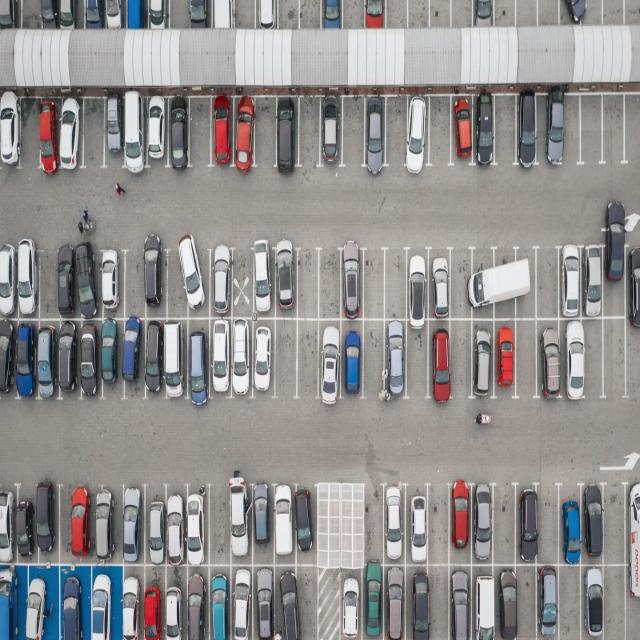space-empty: (447, 319, 473, 399), (294, 318, 320, 396), (272, 318, 298, 395), (603, 318, 629, 395), (207, 486, 232, 566), (405, 321, 431, 397), (557, 563, 583, 638), (425, 96, 452, 168), (513, 320, 538, 397), (492, 92, 518, 166), (254, 94, 280, 168), (423, 564, 449, 638), (292, 564, 318, 638), (492, 486, 516, 565), (341, 95, 367, 167), (534, 248, 560, 320), (361, 320, 385, 398), (426, 485, 449, 566), (228, 244, 253, 318), (297, 97, 323, 167), (188, 98, 214, 168), (448, 250, 474, 320), (603, 94, 628, 166), (604, 563, 628, 638), (293, 251, 319, 320), (82, 99, 108, 168), (579, 95, 604, 166), (583, 318, 605, 398), (382, 251, 407, 321), (603, 486, 625, 565), (362, 488, 384, 567), (384, 97, 408, 169), (316, 252, 341, 321), (538, 489, 560, 566), (20, 99, 43, 172), (360, 252, 385, 319), (124, 248, 148, 317), (166, 245, 188, 317), (516, 566, 538, 638), (561, 93, 582, 168), (38, 248, 58, 316), (318, 492, 336, 566), (57, 486, 74, 564), (625, 320, 640, 396), (624, 93, 640, 163), (298, 0, 322, 30), (384, 0, 408, 29), (407, 0, 431, 29), (277, 0, 300, 30), (450, 0, 474, 28), (342, 0, 365, 29), (21, 0, 43, 30), (169, 0, 191, 30), (430, 0, 453, 28), (234, 0, 256, 29), (514, 1, 538, 27), (535, 0, 559, 25), (600, 0, 625, 24), (493, 0, 515, 26), (623, 0, 640, 23)
space-occupied: (18, 564, 54, 640), (560, 318, 592, 398), (85, 566, 118, 640), (181, 242, 211, 319), (58, 567, 89, 640), (186, 318, 213, 399), (250, 319, 278, 395), (92, 486, 120, 562), (161, 318, 187, 398), (538, 320, 564, 399), (602, 240, 627, 322), (404, 97, 432, 170), (226, 319, 252, 397), (380, 483, 405, 564), (226, 563, 253, 638), (448, 95, 476, 167), (208, 318, 233, 398), (317, 316, 342, 396), (12, 319, 37, 399), (253, 243, 280, 317), (208, 245, 235, 319), (472, 564, 499, 638), (543, 92, 570, 166), (120, 563, 146, 639), (67, 485, 93, 561), (123, 318, 148, 397), (405, 484, 430, 563), (74, 247, 101, 320), (227, 482, 251, 564), (404, 250, 432, 320), (471, 319, 496, 397), (140, 564, 166, 639), (380, 319, 405, 397), (447, 482, 471, 563), (31, 482, 56, 559), (448, 564, 474, 638), (122, 96, 148, 170), (206, 564, 232, 638), (183, 563, 208, 639), (558, 245, 584, 318), (517, 94, 543, 167), (161, 567, 187, 640), (536, 563, 561, 638), (185, 489, 210, 564), (363, 97, 389, 169), (340, 318, 364, 396), (142, 96, 168, 168), (122, 486, 146, 564), (514, 485, 538, 563), (472, 246, 498, 318), (492, 246, 518, 318), (581, 243, 606, 317), (81, 320, 105, 397), (272, 246, 298, 317), (340, 569, 366, 640), (472, 482, 495, 562), (101, 316, 124, 396), (101, 250, 128, 318), (492, 318, 516, 394), (578, 562, 602, 638), (426, 249, 452, 319), (317, 97, 343, 167), (209, 97, 234, 169), (472, 97, 497, 169), (274, 563, 298, 638), (429, 321, 452, 399), (58, 319, 81, 397), (144, 319, 167, 397), (14, 244, 38, 318), (254, 564, 278, 638), (405, 564, 429, 638), (274, 97, 299, 168), (167, 99, 192, 170), (59, 98, 84, 169), (35, 320, 58, 397), (560, 490, 584, 563), (232, 98, 257, 168), (273, 485, 296, 561), (253, 484, 275, 563), (164, 489, 187, 564), (381, 563, 404, 638), (512, 247, 536, 318), (143, 487, 165, 564), (38, 98, 61, 171), (494, 567, 517, 640), (359, 567, 382, 640), (293, 490, 315, 566), (581, 488, 602, 566), (340, 251, 364, 318), (144, 247, 167, 316), (104, 98, 127, 167), (0, 95, 21, 169), (16, 486, 36, 560), (0, 564, 19, 640), (0, 489, 17, 566), (0, 244, 18, 316), (58, 248, 77, 316), (625, 481, 640, 562), (625, 562, 640, 638), (0, 320, 14, 397), (627, 242, 640, 320), (560, 0, 600, 24), (255, 1, 281, 30), (57, 0, 82, 30), (125, 0, 149, 30), (317, 0, 342, 28), (364, 0, 388, 29), (188, 0, 212, 29), (146, 0, 170, 28), (209, 0, 233, 28), (84, 0, 107, 29), (473, 0, 497, 26), (0, 1, 21, 30), (103, 0, 124, 29), (39, 0, 57, 29)
